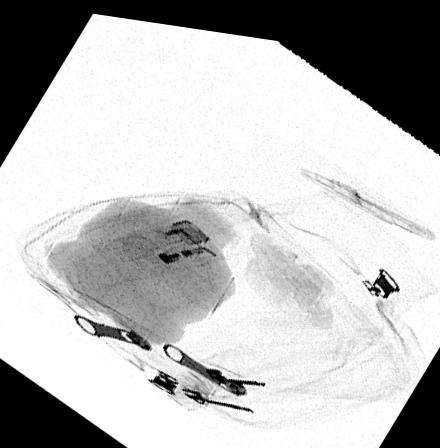Lighter: (92, 213, 227, 279)
